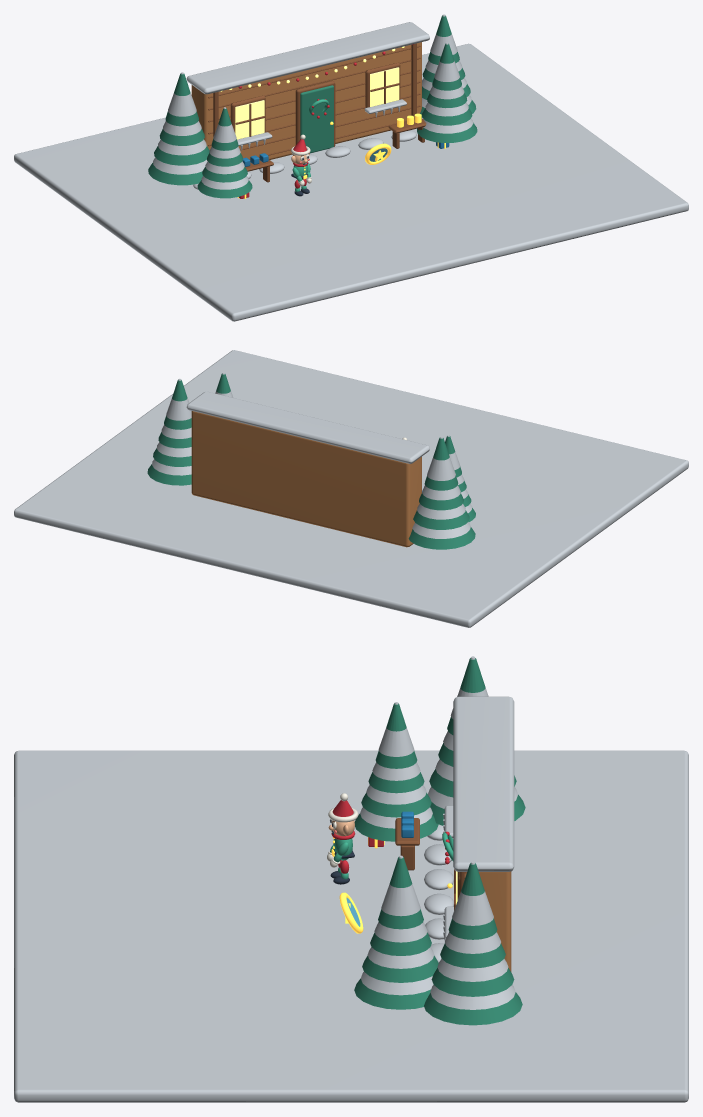
Rendered from chapter-05.glb.
3 renders of one model, top to bottom at view 1: azimuth 30°, elevation 25°; view 2: azimuth 150°, elevation 25°; view 3: azimuth 270°, elevation 25°, orthographic. The views are drawn at different scales.
Parts seen in each view (by area): view 1: Schneeboden, Werkstatt, Schneegesims, Wichteltür, Warmes Fenster, Warmes Fenster.001, Tannenzweig.008, Tannenzweig.009, Türrahmen, Tannenzweig.004, Tannenzweig.011, Schnee.011 (+6 smaller); view 2: Schneeboden, Werkstatt, Schneegesims, Tannenzweig.008, Tannenzweig.009, Tannenzweig.011, Schnee.008, Schnee.011, Tannenzweig.015, Tannenzweig.012, Tannenzweig.010, Schnee.009 (+1 smaller); view 3: Schneeboden, Schneegesims, Werkstatt, Tannenzweig.012, Tannenzweig.013, Tannenzweig.015, Schnee.012, Tannenzweig.005, Tannenzweig.004, Schnee.015, Tannenzweig.007, Schnee.013 (+14 smaller).
Part boxes in pixels (left/top/right/bottom): Schneeboden: left=14, top=43, right=688, bottom=321; Werkstatt: left=191, top=42, right=421, bottom=160; Schneegesims: left=186, top=22, right=429, bottom=94; Wichteltür: left=300, top=85, right=333, bottom=153; Warmes Fenster: left=235, top=100, right=264, bottom=139; Warmes Fenster.001: left=370, top=67, right=399, bottom=106; Tannenzweig.008: left=148, top=163, right=202, bottom=185; Tannenzweig.009: left=154, top=146, right=209, bottom=165; Türrahmen: left=295, top=81, right=335, bottom=146; Tannenzweig.004: left=417, top=122, right=477, bottom=142; Tannenzweig.011: left=165, top=73, right=198, bottom=126; Schnee.011: left=168, top=72, right=196, bottom=116; Schneeboden: left=14, top=350, right=688, bottom=627; Werkstatt: left=191, top=411, right=421, bottom=547; Schneegesims: left=186, top=391, right=429, bottom=463; Tannenzweig.008: left=408, top=527, right=475, bottom=549; Tannenzweig.009: left=413, top=510, right=469, bottom=529; Tannenzweig.011: left=424, top=437, right=458, bottom=490; Schnee.008: left=412, top=522, right=470, bottom=538; Schnee.011: left=427, top=436, right=455, bottom=480; Tannenzweig.015: left=164, top=380, right=191, bottom=429; Tannenzweig.012: left=147, top=464, right=191, bottom=485; Tannenzweig.010: left=419, top=493, right=463, bottom=510; Schnee.009: left=417, top=504, right=465, bottom=519; Schneeboden: left=14, top=750, right=688, bottom=1102; Schneegesims: left=453, top=696, right=514, bottom=871; Werkstatt: left=466, top=871, right=511, bottom=971; Tannenzweig.012: left=424, top=992, right=522, bottom=1025; Tannenzweig.013: left=431, top=968, right=514, bottom=996; Tannenzweig.015: left=448, top=863, right=497, bottom=939; Schnee.012: left=430, top=985, right=515, bottom=1009; Tannenzweig.005: left=362, top=955, right=438, bottom=982; Tannenzweig.004: left=354, top=978, right=430, bottom=1009; Schnee.015: left=452, top=861, right=493, bottom=925; Tannenzweig.007: left=378, top=857, right=423, bottom=929; Schnee.013: left=437, top=959, right=508, bottom=981.
Bounding box in the file's own units: 18 × 4.39 × 15.
